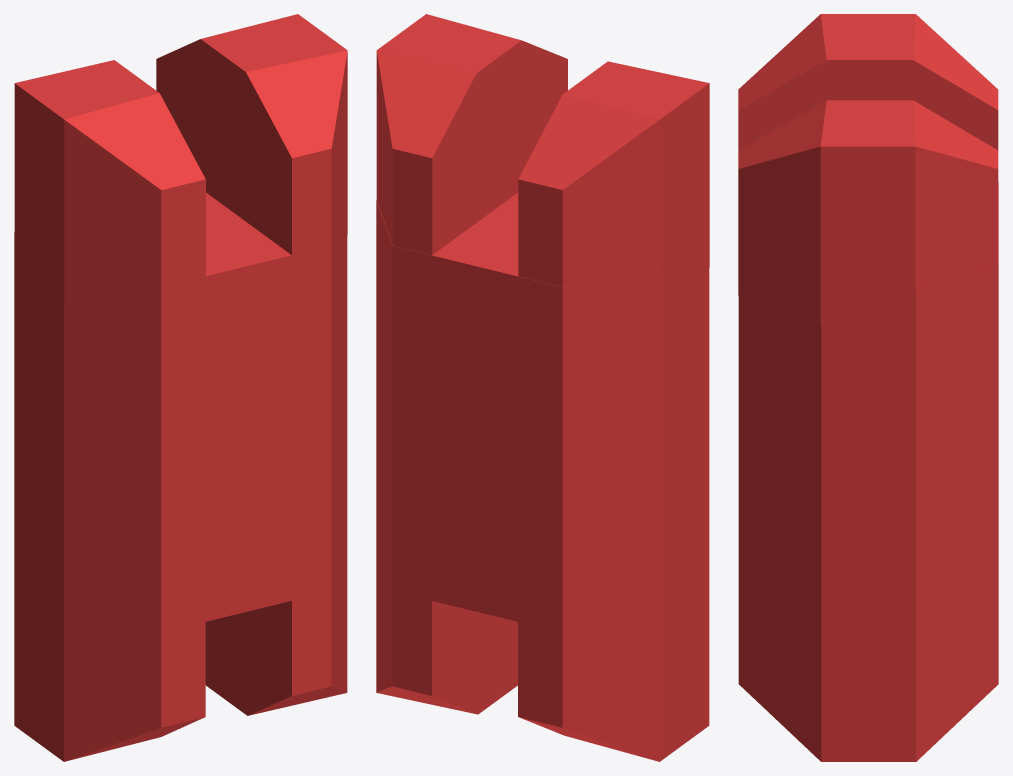
File: arm.glb
3 views of the same model, side by side, from view 1: azimuth 30°, elevation 25°; view 2: azimuth 150°, elevation 25°; view 3: azimuth 270°, elevation 25° (orthographic). The views are drawn at different scales.
Visible parts, largest first — view 1: Cube.002; view 2: Cube.002; view 3: Cube.002.
Part boxes in pixels (<box>): Cube.002: <box>14,14,347,761</box>; Cube.002: <box>376,14,709,761</box>; Cube.002: <box>738,14,998,761</box>.
Size of the model in its own units: 7.88 by 17.07 by 6.55.
